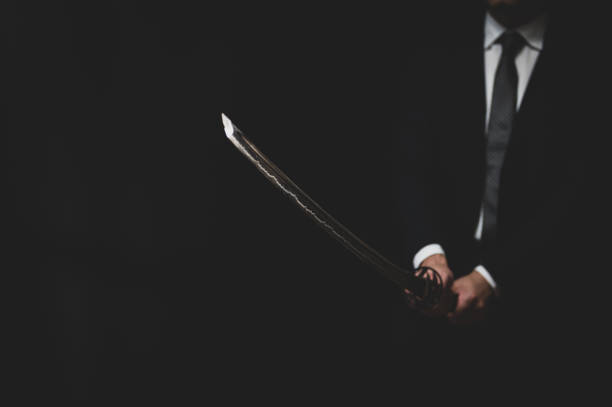knife: (218, 111, 459, 316)
